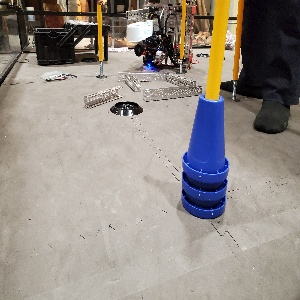Blue_3: (180, 92, 228, 219)
